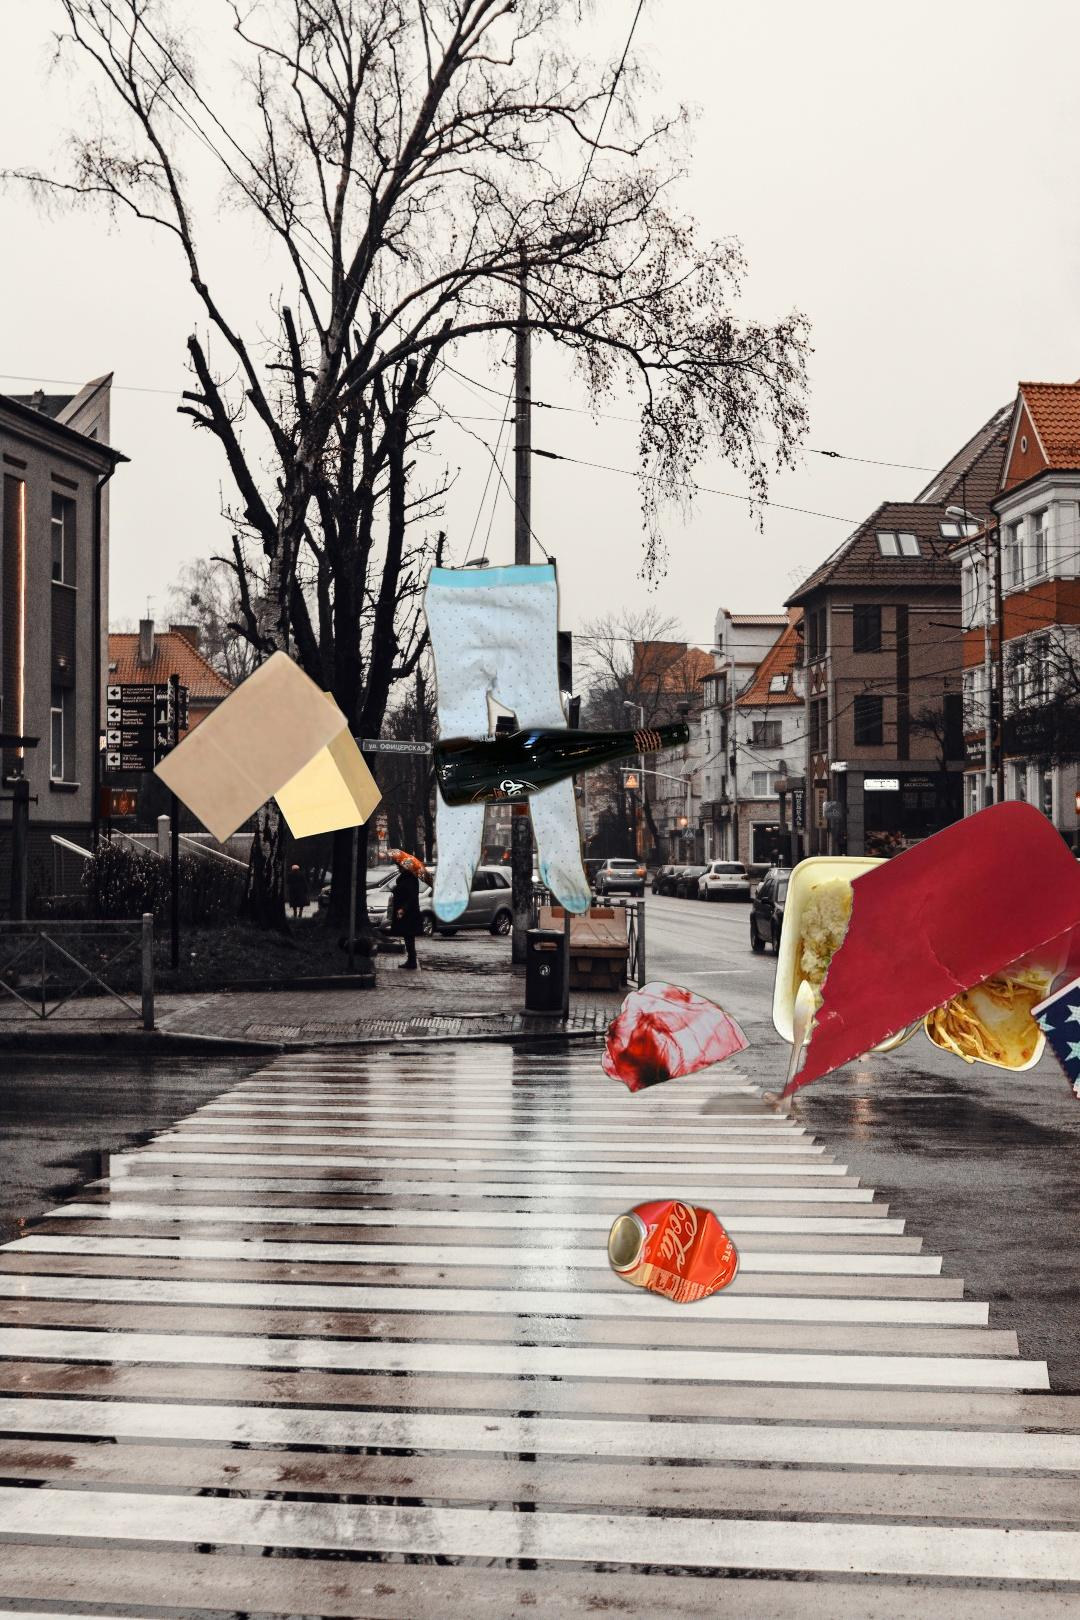biological: (900, 83, 1080, 1202), (677, 855, 1079, 1115)
clothes: (417, 560, 600, 928)
glass: (428, 715, 695, 814)
metal-cans: (325, 953, 742, 1310)
paper: (648, 797, 1080, 1150)
paper-bag: (121, 646, 386, 940)
plastic-bag: (598, 978, 753, 1094)
